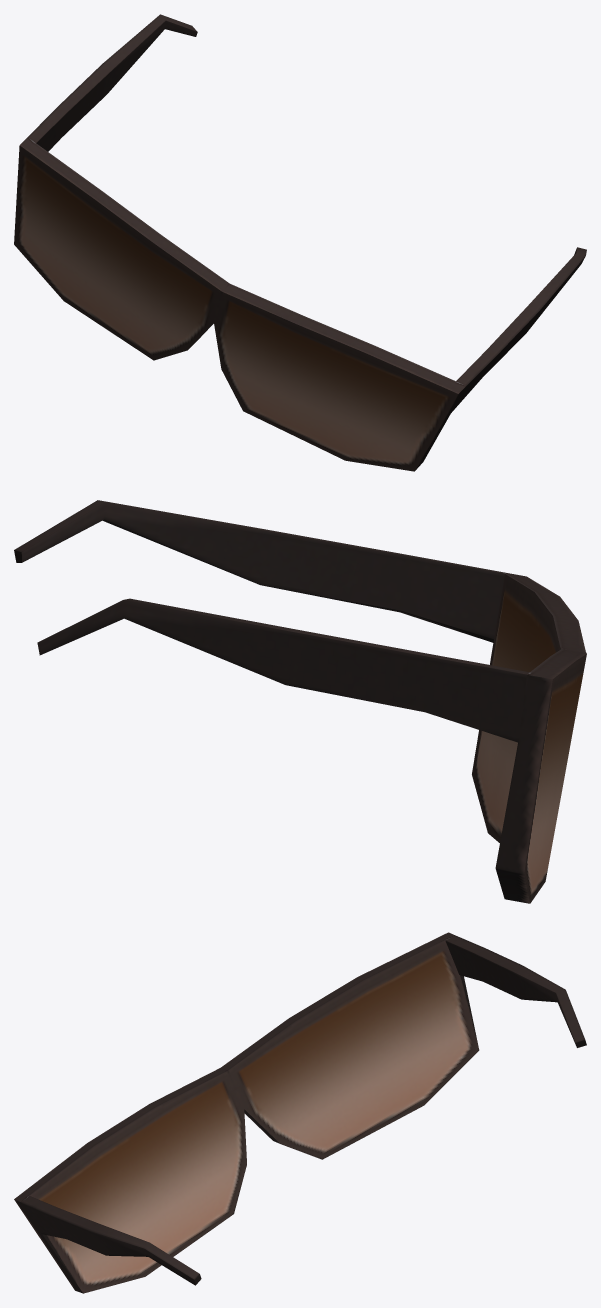
The model's file is PiErSenGongYu_01_yanjing_01.FBX.
3 views of the same model, one above another, from view 1: azimuth 30°, elevation 25°; view 2: azimuth 150°, elevation 25°; view 3: azimuth 270°, elevation 25° (orthographic). The views are drawn at different scales.
Parts seen in each view (by area): view 1: PiErSenDeGongYu_yanjing_01; view 2: PiErSenDeGongYu_yanjing_01; view 3: PiErSenDeGongYu_yanjing_01.
Part boxes in pixels (box(x1,y1,x2,y2)): PiErSenDeGongYu_yanjing_01: box(14, 14, 586, 471); PiErSenDeGongYu_yanjing_01: box(14, 500, 586, 903); PiErSenDeGongYu_yanjing_01: box(14, 932, 586, 1293).
Size of the model in its own units: 72.58 by 45.03 by 79.1.
